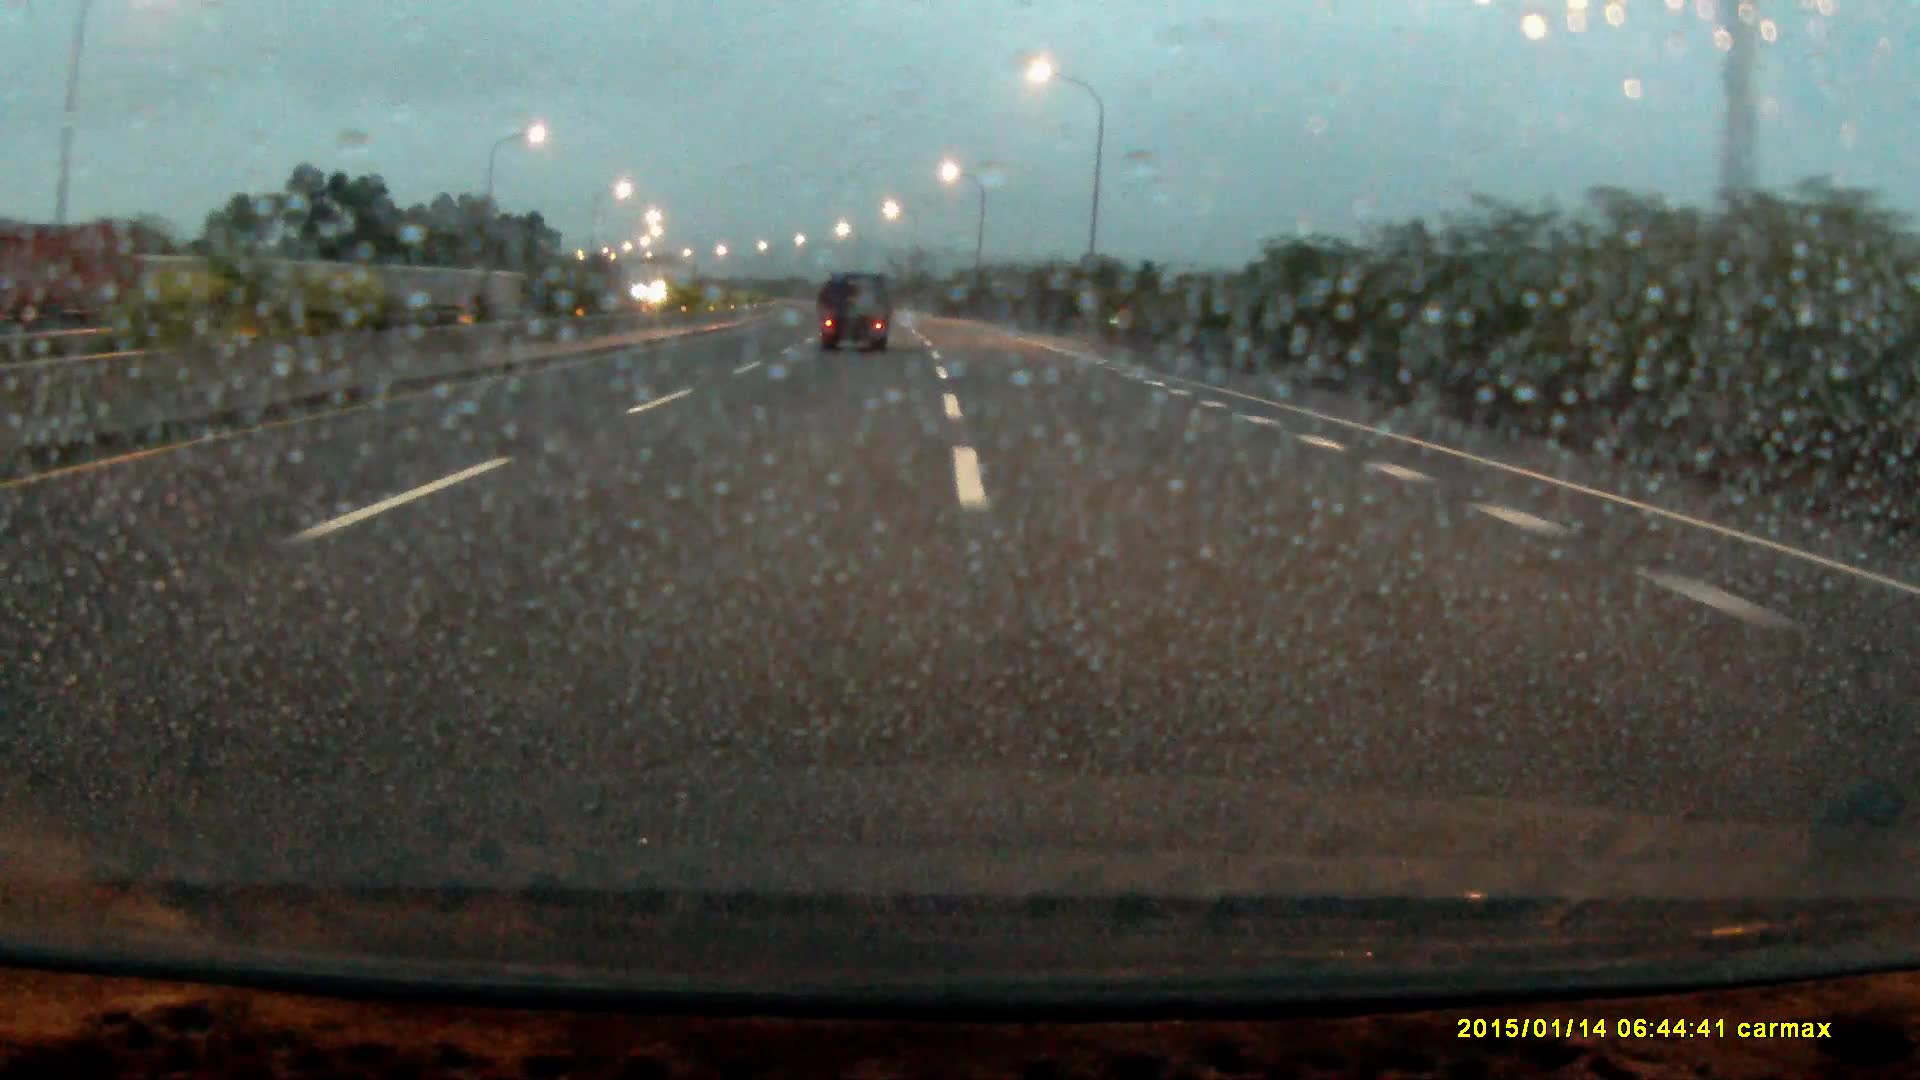vehicle: (7, 224, 160, 323), (818, 266, 893, 351)
